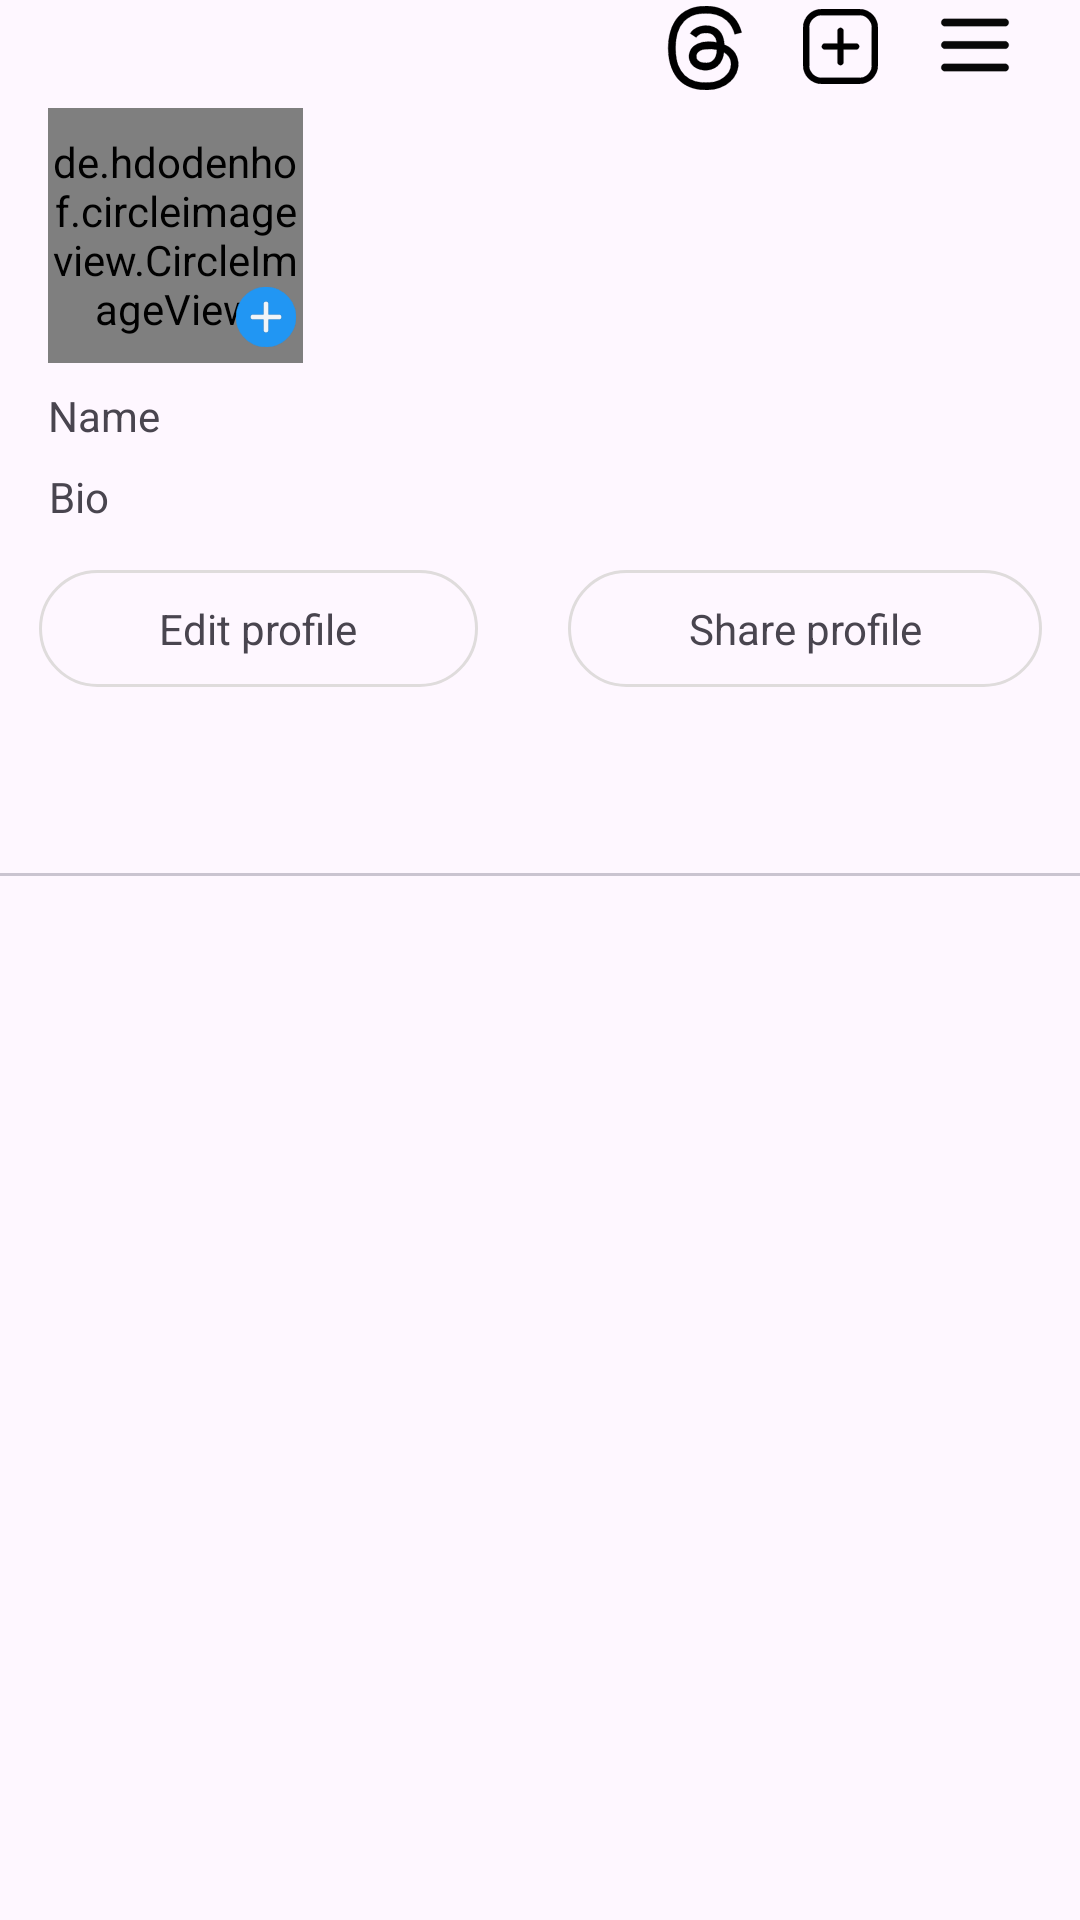

Where icons sit on this 1080x1920 app screen, as (x1, y1, x2, y2):
add post: (803, 9, 878, 84)
add profile: (236, 287, 296, 347)
